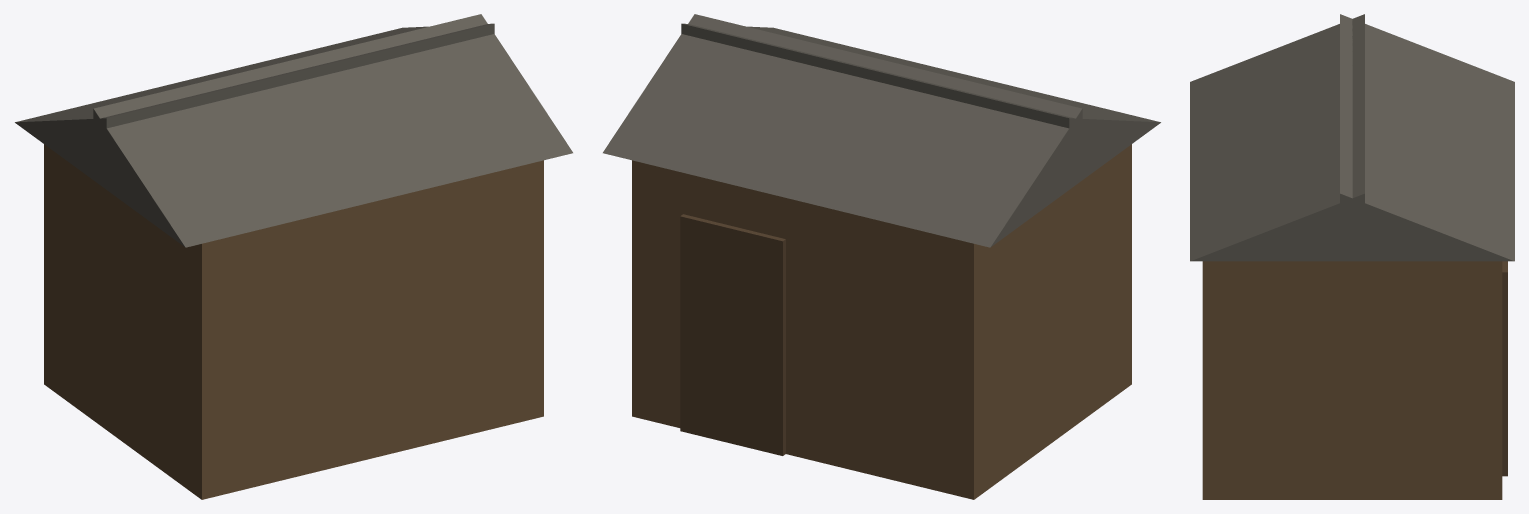
Rendered from Shed.fbx.
3 renders of one model, left to right at view 1: azimuth 30°, elevation 25°; view 2: azimuth 150°, elevation 25°; view 3: azimuth 270°, elevation 25°, orthographic. The views are drawn at different scales.
Visible parts, largest first — view 1: Walls, RoofB, RoofA; view 2: Walls, RoofA, Door, RoofB; view 3: Walls, RoofA, RoofB, Door.
Part boxes in pixels (x1,y1,x2,y2): Walls: (44,144,543,499); RoofB: (93,14,572,247); RoofA: (15,23,494,183); Walls: (632,144,1131,499); RoofA: (603,14,1082,247); Door: (680,214,785,455); RoofB: (681,23,1160,189); Walls: (1202,261,1502,499); RoofA: (1340,14,1514,261); RoofB: (1190,14,1364,261); Door: (1502,261,1507,476).
Size of the model in its own units: 340 by 260 by 280.
